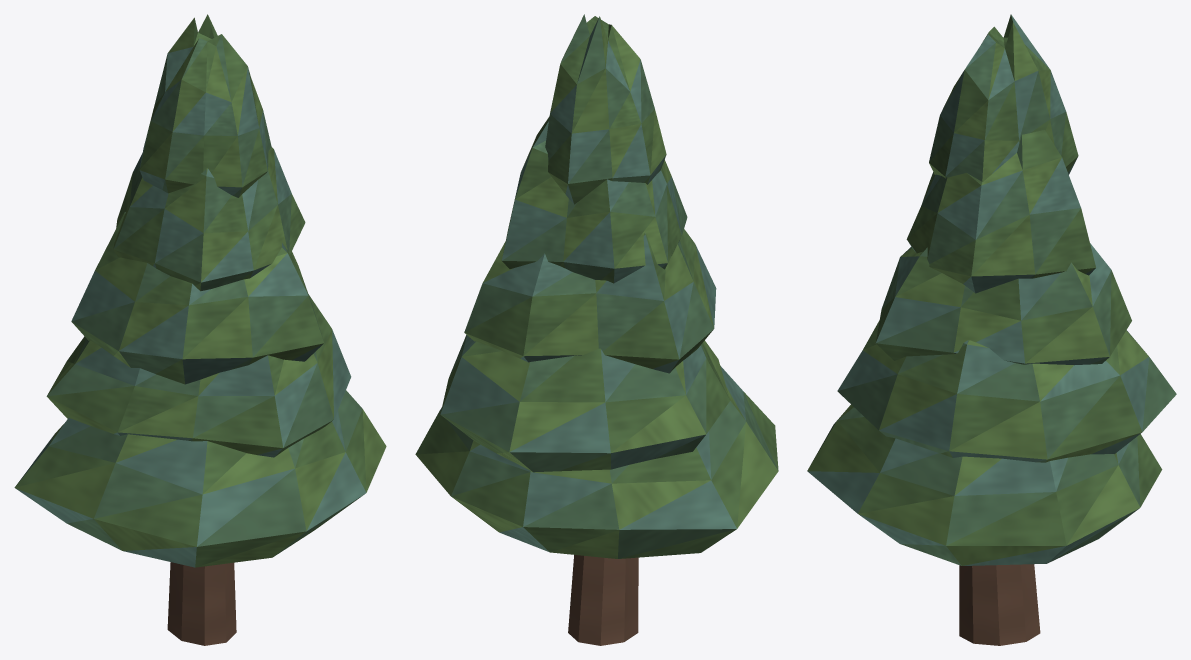
File: tree_spruce_01.fbx
3 renders of one model, left to right at view 1: azimuth 30°, elevation 25°; view 2: azimuth 150°, elevation 25°; view 3: azimuth 270°, elevation 25°, orthographic.
Parts seen in each view (by area): view 1: tree_spruce_01; view 2: tree_spruce_01; view 3: tree_spruce_01.
Boxes of the visible parts, x1,y1,x2,y2 form: tree_spruce_01: (14,14,386,645); tree_spruce_01: (415,14,778,645); tree_spruce_01: (807,14,1176,645).
Size of the model in its own units: 464 by 850 by 460.
Materials: 1 (1 with a texture image).
